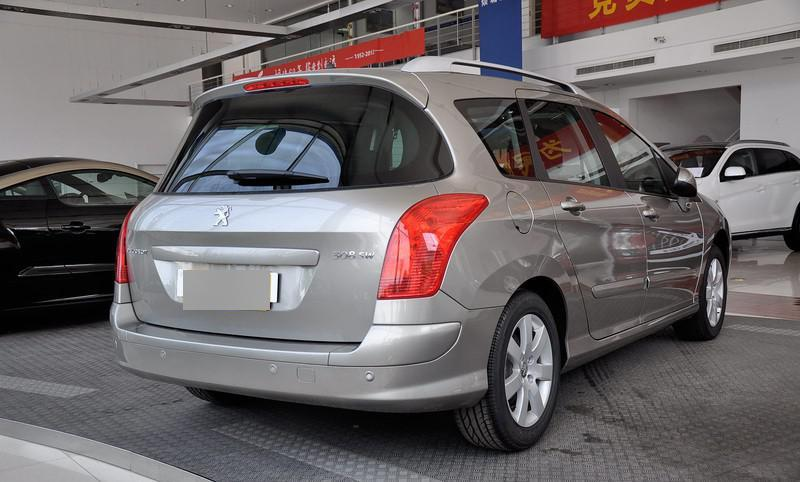Wagon: (108, 55, 733, 454)
